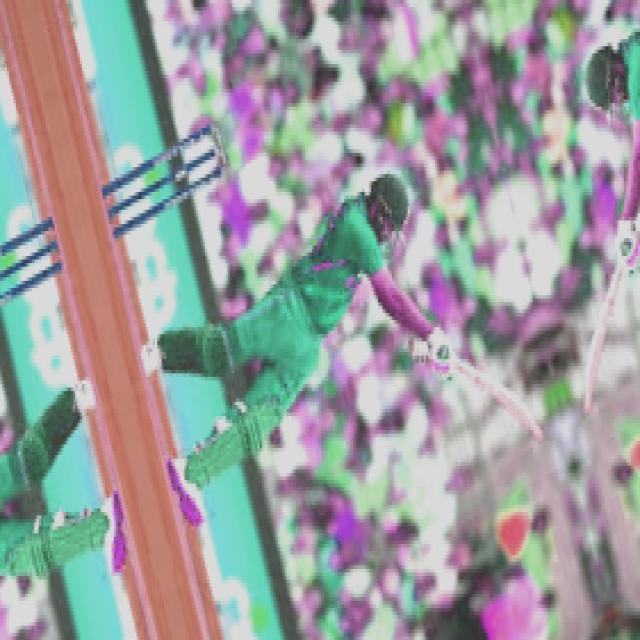toe: (528, 412, 545, 439)
